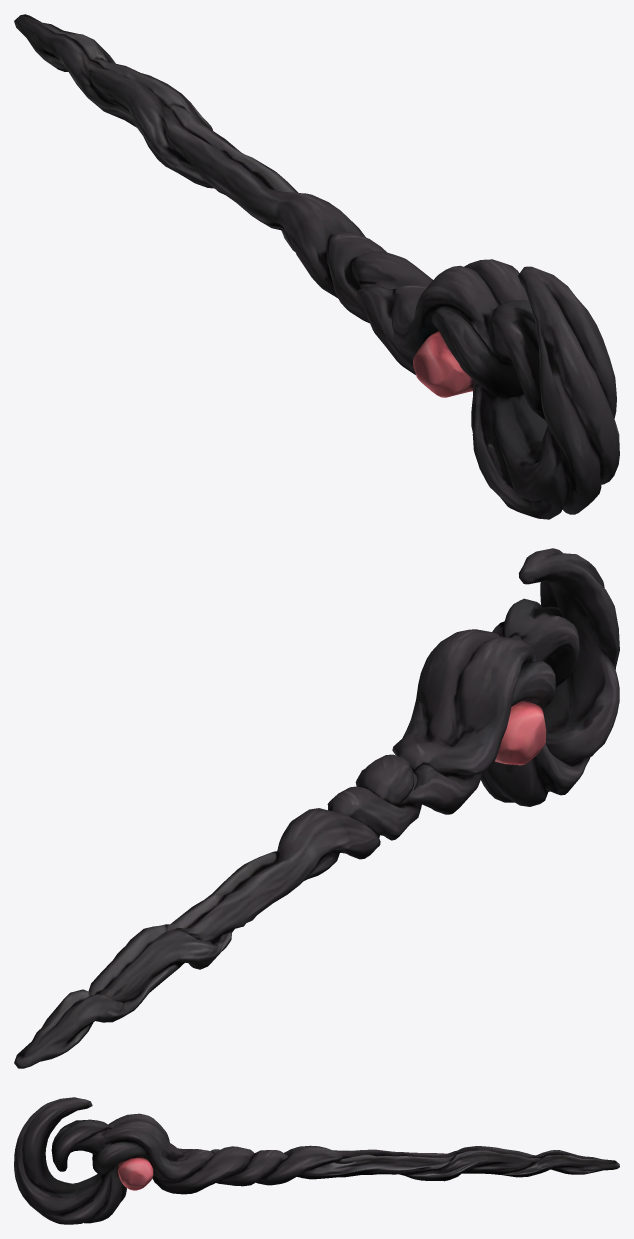
Rendered from weapon.glb.
The picture shows the model from 3 angles, top to bottom: view 1: azimuth 30°, elevation 25°; view 2: azimuth 150°, elevation 25°; view 3: azimuth 270°, elevation 25°; orthographic projection. The views are drawn at different scales.
Parts seen in each view (by area): view 1: tripo_node_144e578c-9157-4810-b921-1df636df95b0; view 2: tripo_node_144e578c-9157-4810-b921-1df636df95b0; view 3: tripo_node_144e578c-9157-4810-b921-1df636df95b0.
Boxes of the visible parts, x1,y1,x2,y2 form: tripo_node_144e578c-9157-4810-b921-1df636df95b0: (14, 14, 619, 519); tripo_node_144e578c-9157-4810-b921-1df636df95b0: (14, 548, 619, 1068); tripo_node_144e578c-9157-4810-b921-1df636df95b0: (14, 1097, 619, 1224).
Size of the model in its own units: 0.1192 by 0.2257 by 1.
1 material, 1 textured.
